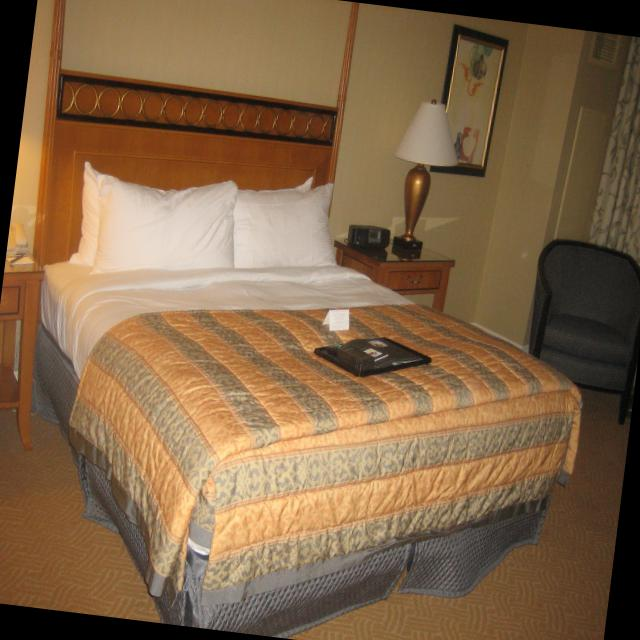bed -occluded-: (32, 0, 583, 637)
picture crop: (430, 24, 511, 177)
pillow occluded: (91, 173, 236, 275), (228, 184, 340, 271)
welcome card: (321, 308, 350, 331)
